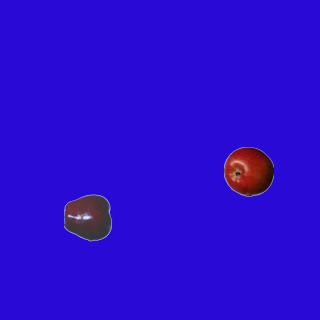Apple Braeburn: (223, 146, 273, 196)
Apple Red Delicious: (63, 192, 113, 242)
